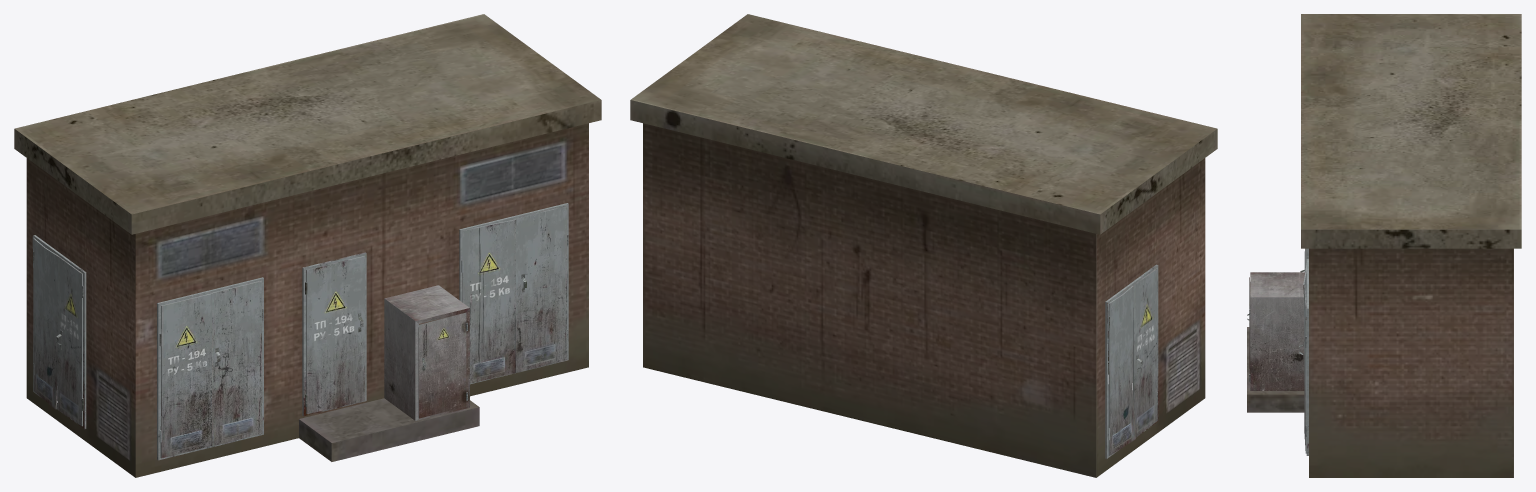
The model's file is transformer-booth.zfix-v1.lod0.glb.
The picture shows the model from 3 angles, left to right: view 1: azimuth 30°, elevation 25°; view 2: azimuth 150°, elevation 25°; view 3: azimuth 270°, elevation 25°; orthographic projection. The views are drawn at different scales.
Visible parts, largest first — view 1: transform_low_brick_0, transform_low_metal_0; view 2: transform_low_brick_0, transform_low_metal_0; view 3: transform_low_brick_0, transform_low_metal_0.
Part boxes in pixels (box(x1,y1,x2,y2)): transform_low_brick_0: box(14, 14, 601, 477); transform_low_metal_0: box(32, 203, 568, 460); transform_low_brick_0: box(630, 14, 1217, 477); transform_low_metal_0: box(1105, 264, 1158, 458); transform_low_brick_0: box(1247, 14, 1521, 477); transform_low_metal_0: box(1247, 248, 1308, 455).
Bounding box in the file's own units: 8 × 4.37 × 4.32.
2 materials, 2 textured.
